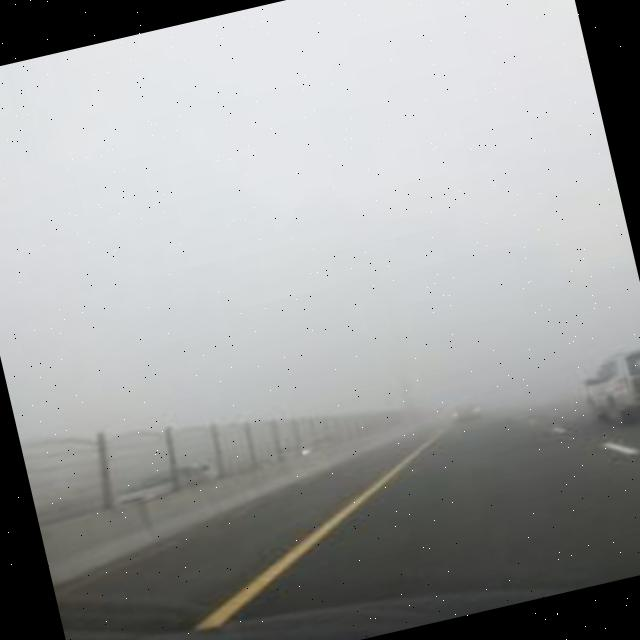car: (579, 340, 640, 436), (446, 386, 484, 424)
